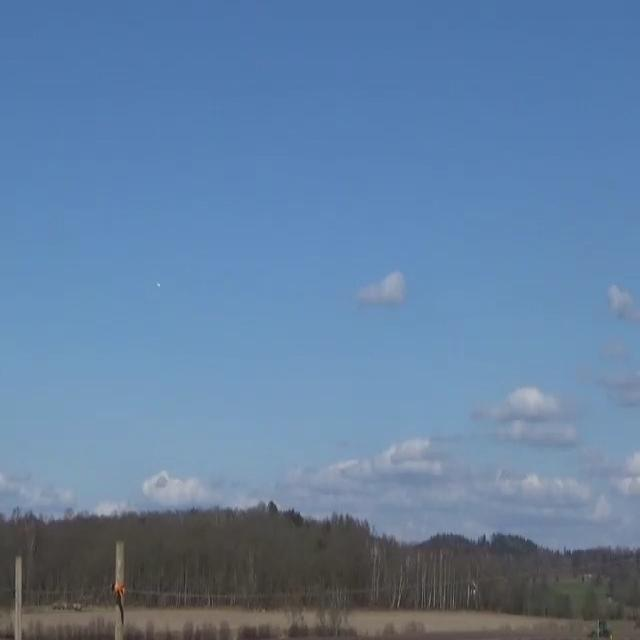drone: (155, 282, 161, 288)
